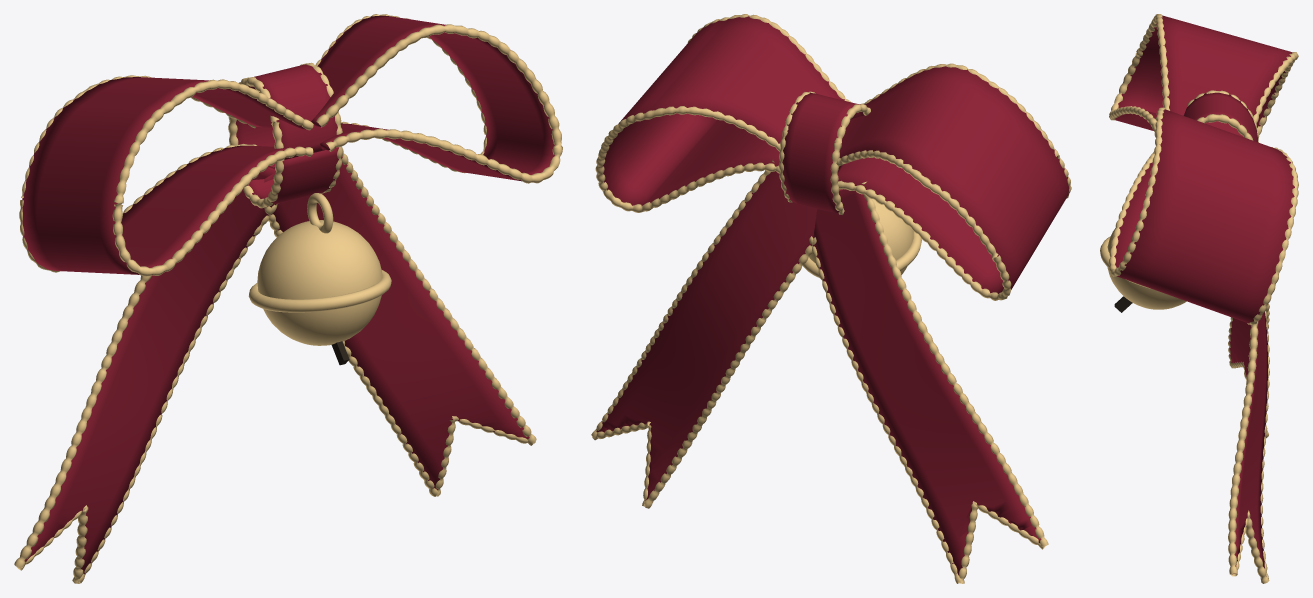
Rendered from Ribbon_01.glb.
The picture shows the model from 3 angles, left to right: view 1: azimuth 30°, elevation 25°; view 2: azimuth 150°, elevation 25°; view 3: azimuth 270°, elevation 25°; orthographic projection. The views are drawn at different scales.
Visible parts, largest first — view 1: Ribbon_01_Loop_L, Ribbon_01_Tail_L, Ribbon_01_Tail_R, Ribbon_01_Loop_R, Ribbon_01_Bell, Ribbon_01_Knot, Ribbon_01_Loop_R_Trim1, Ribbon_01_Loop_L_Trim0, Ribbon_01_Tail_L_Trim0, Ribbon_01_Tail_R_Trim1, Ribbon_01_BellBand, Ribbon_01_Tail_L_Trim1 (+7 smaller); view 2: Ribbon_01_Loop_L, Ribbon_01_Tail_L, Ribbon_01_Loop_R, Ribbon_01_Tail_R, Ribbon_01_Knot, Ribbon_01_Loop_L_Trim1, Ribbon_01_Loop_R_Trim0, Ribbon_01_Tail_L_Trim0, Ribbon_01_Tail_R_Trim0, Ribbon_01_Tail_L_Trim1, Ribbon_01_Tail_R_Trim1, Ribbon_01_Bell (+6 smaller); view 3: Ribbon_01_Loop_R, Ribbon_01_Loop_L, Ribbon_01_Tail_R, Ribbon_01_Tail_R_Trim1, Ribbon_01_Loop_R_Trim1, Ribbon_01_Loop_L_Trim0, Ribbon_01_Knot, Ribbon_01_Bell, Ribbon_01_Loop_R_Trim0, Ribbon_01_Loop_L_Trim1, Ribbon_01_Tail_L, Ribbon_01_Tail_R_Trim2 (+2 smaller).
Part boxes in pixels (x1,y1,x2,y2): Ribbon_01_Loop_L: (21, 77, 305, 274); Ribbon_01_Tail_L: (24, 166, 276, 573); Ribbon_01_Tail_R: (264, 156, 529, 490); Ribbon_01_Loop_R: (311, 15, 554, 181); Ribbon_01_Bell: (257, 220, 382, 345); Ribbon_01_Knot: (235, 64, 338, 204); Ribbon_01_Loop_R_Trim1: (316, 24, 562, 183); Ribbon_01_Loop_L_Trim0: (112, 79, 313, 276); Ribbon_01_Tail_L_Trim0: (14, 149, 223, 568); Ribbon_01_Tail_R_Trim1: (341, 148, 536, 444); Ribbon_01_BellBand: (248, 270, 391, 312); Ribbon_01_Tail_L_Trim1: (73, 203, 278, 583); Ribbon_01_Loop_L: (837, 66, 1069, 293); Ribbon_01_Tail_L: (813, 189, 1041, 575); Ribbon_01_Loop_R: (602, 16, 844, 205); Ribbon_01_Tail_R: (596, 171, 816, 500); Ribbon_01_Knot: (782, 92, 864, 213); Ribbon_01_Loop_L_Trim1: (836, 150, 1011, 300); Ribbon_01_Loop_R_Trim0: (595, 106, 780, 212); Ribbon_01_Tail_L_Trim0: (861, 181, 1048, 546); Ribbon_01_Tail_R_Trim0: (643, 237, 816, 508); Ribbon_01_Tail_L_Trim1: (809, 236, 963, 583); Ribbon_01_Tail_R_Trim1: (591, 160, 774, 438); Ribbon_01_Bell: (809, 199, 913, 279); Ribbon_01_Loop_R: (1114, 109, 1294, 323); Ribbon_01_Loop_L: (1115, 15, 1292, 136); Ribbon_01_Tail_R: (1231, 312, 1268, 576); Ribbon_01_Tail_R_Trim1: (1228, 321, 1258, 574); Ribbon_01_Loop_R_Trim1: (1108, 107, 1165, 276); Ribbon_01_Loop_L_Trim0: (1109, 14, 1169, 137); Ribbon_01_Knot: (1183, 92, 1257, 142); Ribbon_01_Bell: (1107, 228, 1186, 309); Ribbon_01_Loop_R_Trim0: (1247, 147, 1298, 324); Ribbon_01_Loop_L_Trim1: (1253, 52, 1298, 135); Ribbon_01_Tail_L: (1229, 318, 1251, 376); Ribbon_01_Tail_R_Trim2: (1230, 510, 1269, 583).
Size of the model in its own units: 0.1003 by 0.0976 by 0.0397.
